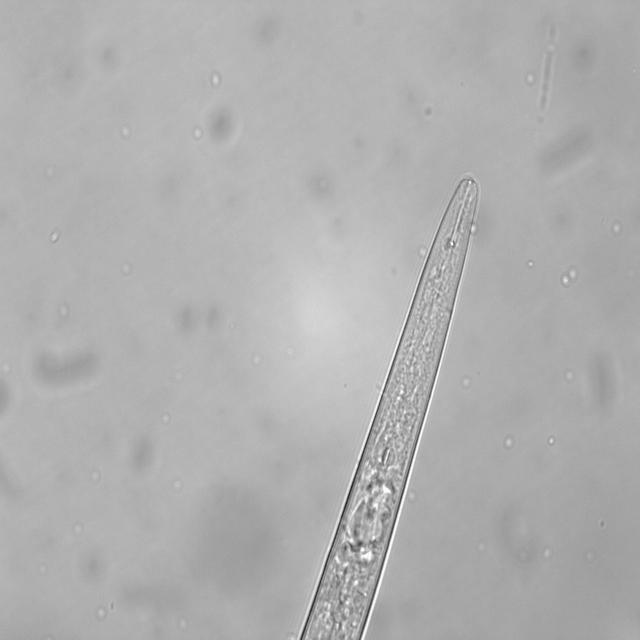Meloidogyne: (291, 170, 483, 640)
